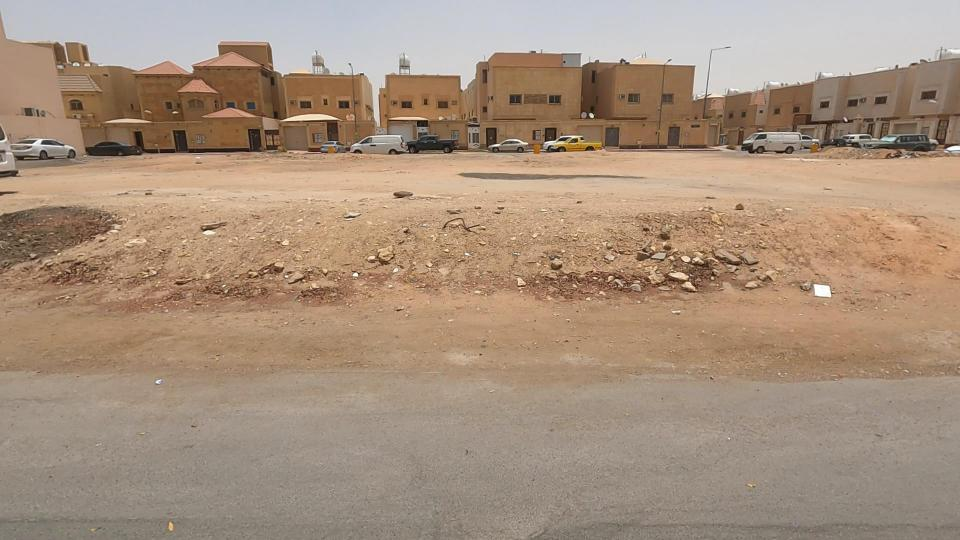GARBAGE: (753, 241, 874, 330)
